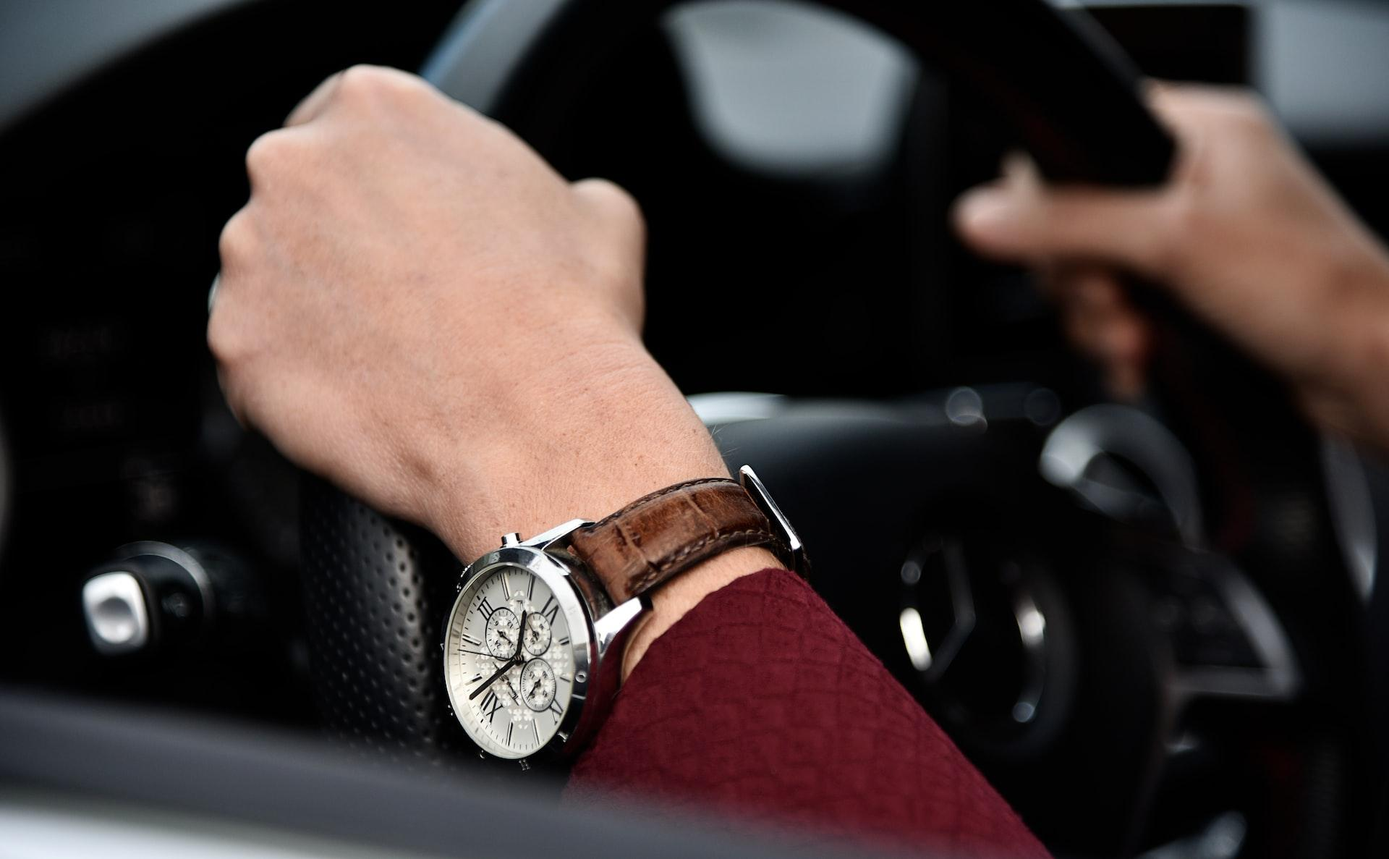watch: (420, 461, 803, 809)
